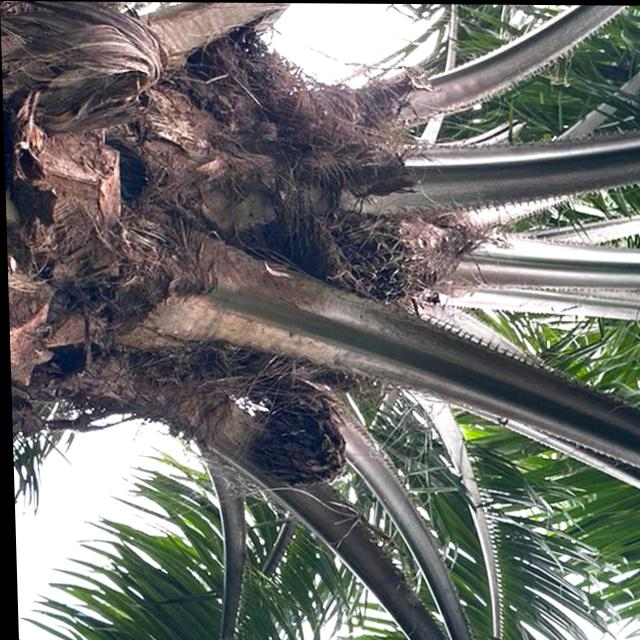unripe: (295, 207, 424, 316)
